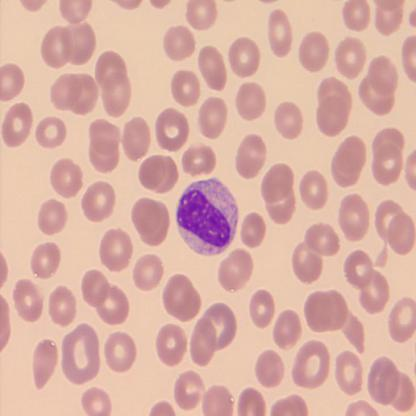Metamyelocyte: (173, 175, 240, 259)
